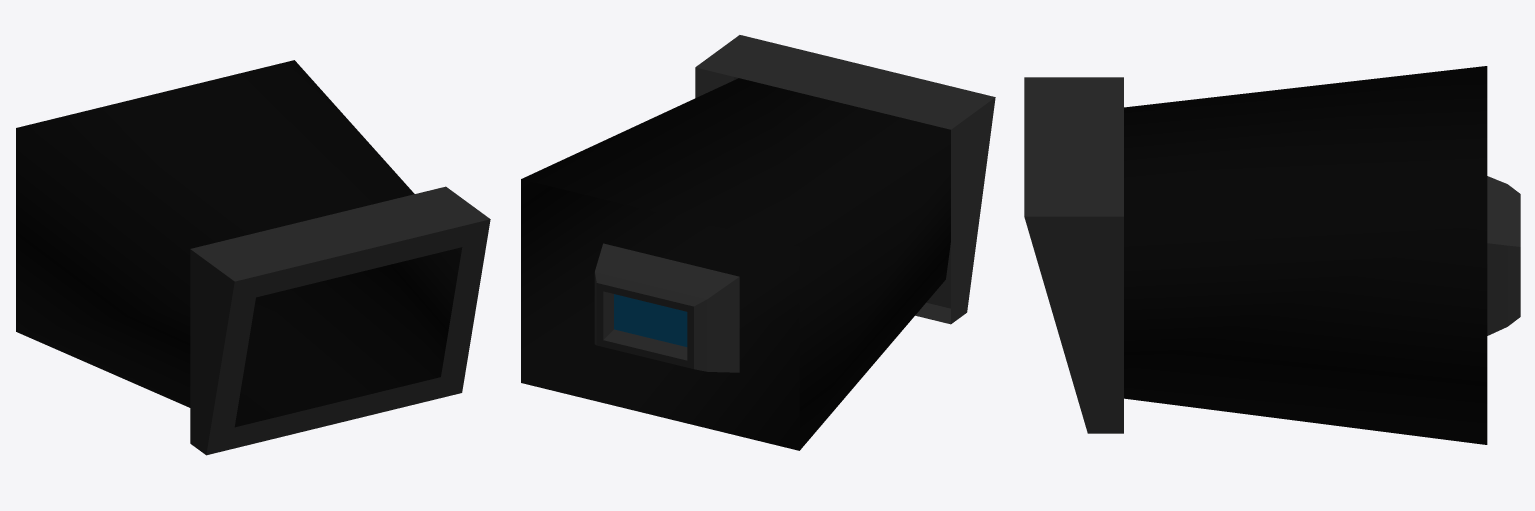
Rendered from TankSight_SQ.fbx.
The picture shows the model from 3 angles, left to right: view 1: azimuth 30°, elevation 25°; view 2: azimuth 150°, elevation 25°; view 3: azimuth 270°, elevation 25°; orthographic projection. The views are drawn at different scales.
Parts seen in each view (by area): view 1: Cube.001; view 2: Cube.001; view 3: Cube.001.
Boxes of the visible parts, bbox=[...] form: Cube.001: bbox=[16, 60, 490, 455]; Cube.001: bbox=[521, 35, 995, 450]; Cube.001: bbox=[1024, 66, 1520, 444].
Size of the model in its own units: 1 by 1.37 by 1.
